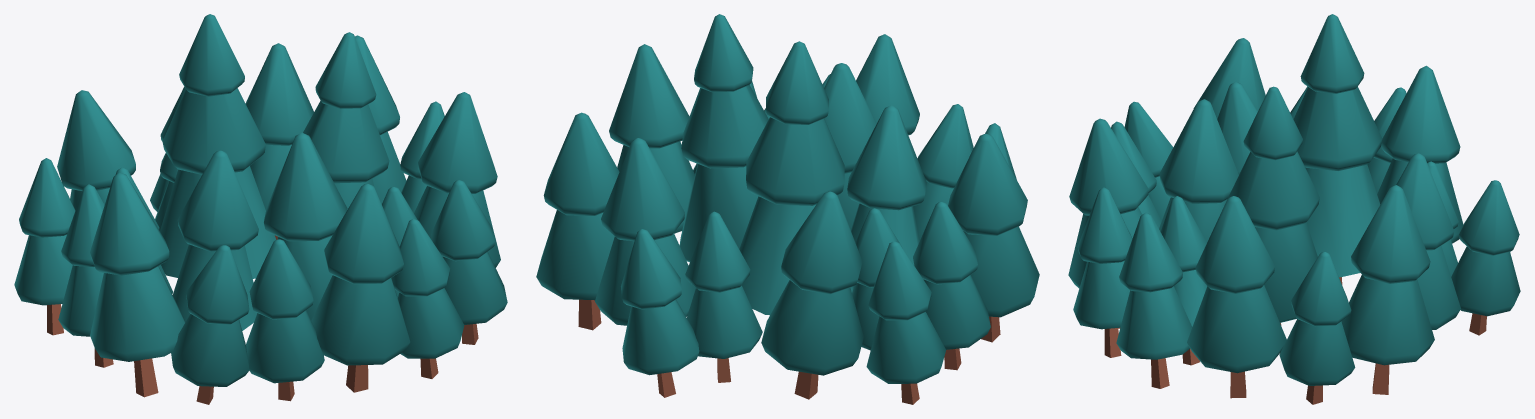
File: forest.gltf.glb
3 views of the same model, side by side, from view 1: azimuth 30°, elevation 25°; view 2: azimuth 150°, elevation 25°; view 3: azimuth 270°, elevation 25° (orthographic). The views are drawn at different scales.
Parts seen in each view (by area): view 1: forest; view 2: forest; view 3: forest.
Part boxes in pixels (x1,y1,x2,y2): forest: (14, 14, 507, 404); forest: (536, 14, 1039, 404); forest: (1068, 14, 1520, 404).
Size of the model in its own units: 63256 by 44567 by 62128.
